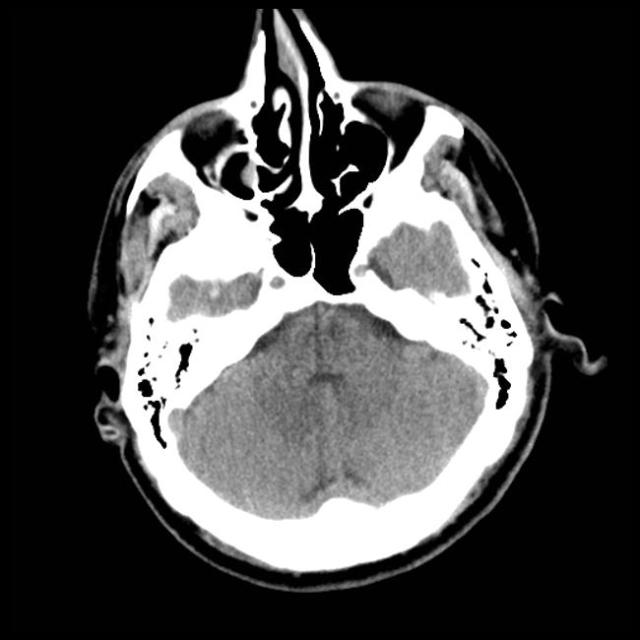lesion: (82, 8, 602, 592)
